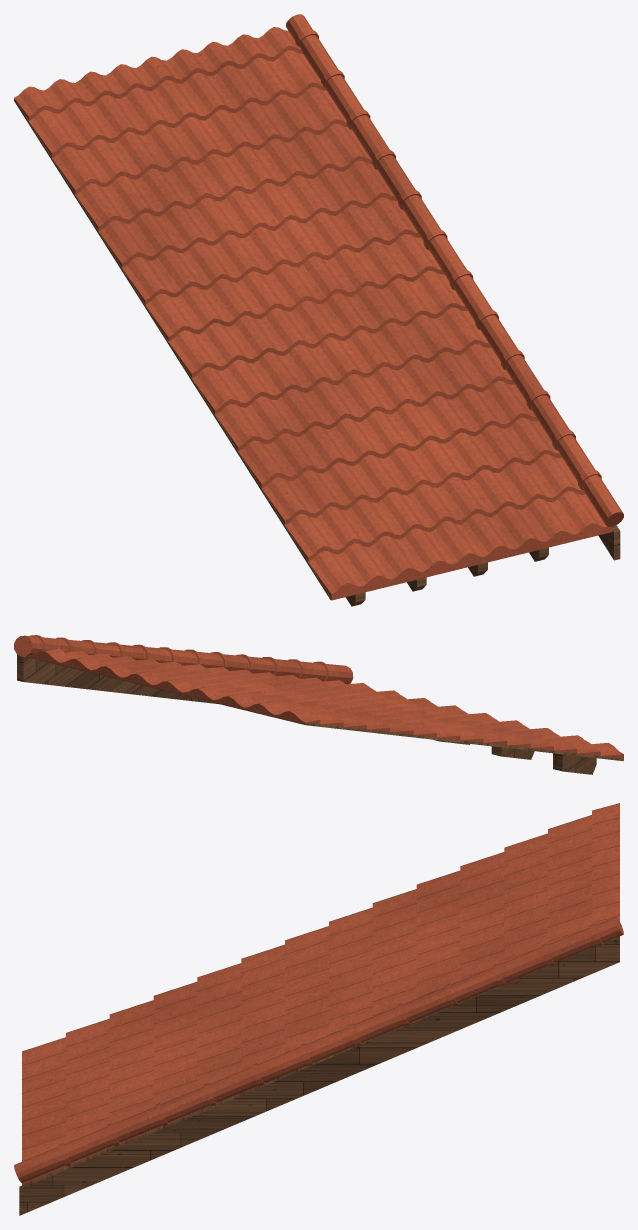
The model's file is m_roof_end_r.glb.
3 views of the same model, one above another, from view 1: azimuth 30°, elevation 25°; view 2: azimuth 150°, elevation 25°; view 3: azimuth 270°, elevation 25° (orthographic). The views are drawn at different scales.
Visible parts, largest first — view 1: m_roof_end_r_tile_clay, m_roof_end_r_planks, m_roof_end_r_wood; view 2: m_roof_end_r_tile_clay, m_roof_end_r_wood, m_roof_end_r_planks; view 3: m_roof_end_r_tile_clay, m_roof_end_r_wood.
Boxes of the visible parts, x1,y1,x2,y2 form: m_roof_end_r_tile_clay: (14,14,623,600); m_roof_end_r_planks: (14,98,330,599); m_roof_end_r_wood: (345,525,620,606); m_roof_end_r_tile_clay: (14,635,623,760); m_roof_end_r_wood: (17,654,596,774); m_roof_end_r_planks: (25,656,623,761); m_roof_end_r_tile_clay: (14,803,623,1185); m_roof_end_r_wood: (19,935,619,1215).
Size of the model in its own units: 2.39 by 2.46 by 4.59.
3 materials, 3 textured.
